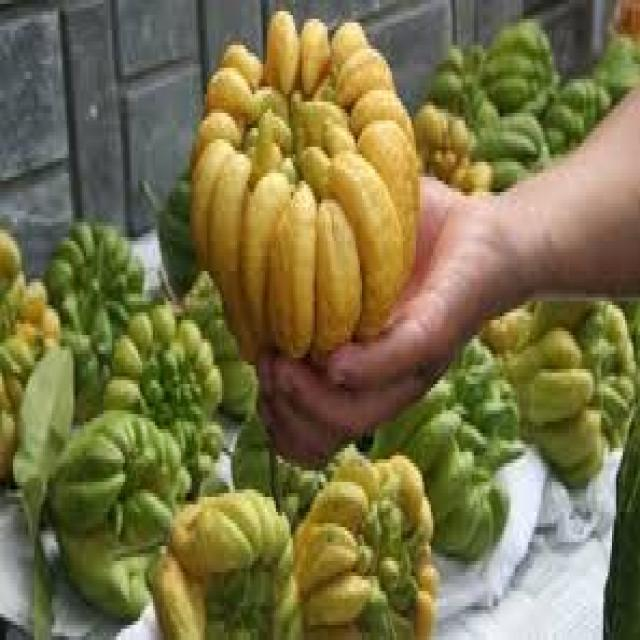PhatThu: (169, 11, 433, 360)
